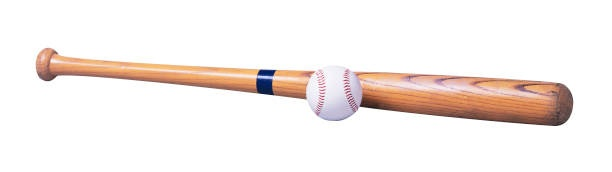bita: (40, 46, 573, 130)
